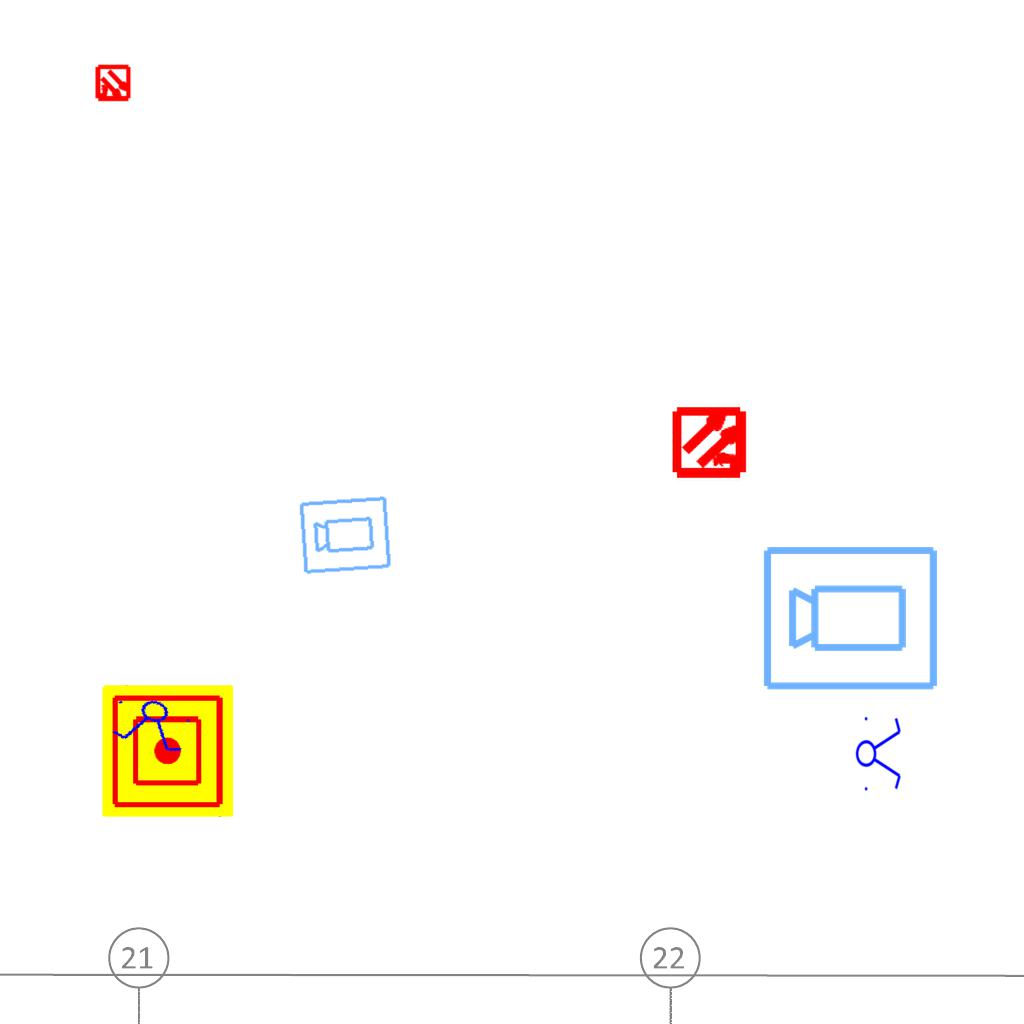KFO_Kamera_mit_Festobjektiv: (760, 540, 942, 694), (297, 492, 394, 577)
NAM-Nichtautomatischer_Melder: (102, 685, 234, 817)
OT_Multisensormelder_(Kombination_RMO_WMD): (655, 386, 768, 499), (85, 56, 141, 112)
Serienschalter: (105, 689, 199, 759), (855, 711, 903, 795)
